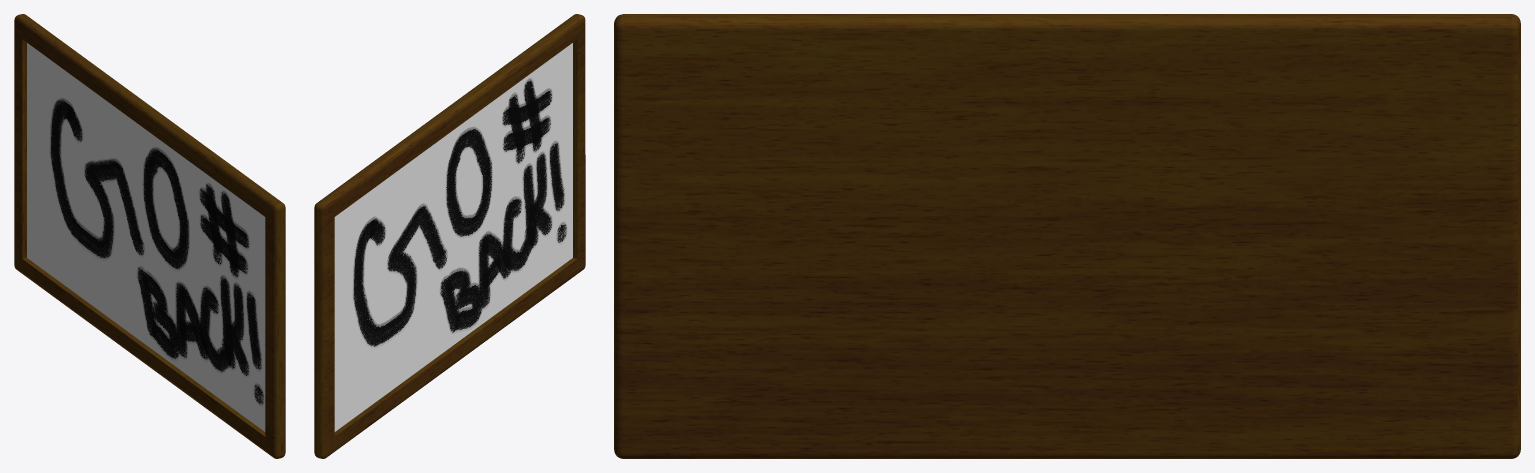
The model's file is white board .fbx.
The picture shows the model from 3 angles, left to right: view 1: azimuth 30°, elevation 25°; view 2: azimuth 150°, elevation 25°; view 3: azimuth 270°, elevation 25°; orthographic projection. The views are drawn at different scales.
Parts seen in each view (by area): view 1: Cube; view 2: Cube; view 3: Cube.
Part boxes in pixels (x1,y1,x2,y2): Cube: [14, 14, 285, 458]; Cube: [314, 14, 585, 458]; Cube: [614, 14, 1520, 458].
Bounding box in the file's own units: 4.55 × 88.72 × 165.
2 materials, 2 textured.
